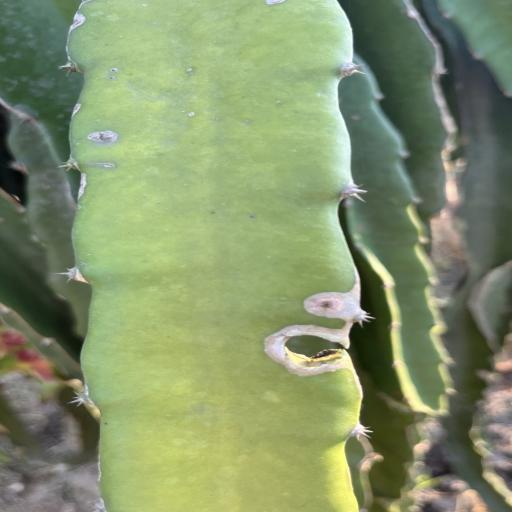stemcanker: (88, 125, 126, 153), (312, 294, 356, 318), (106, 66, 128, 84), (180, 64, 201, 80), (180, 110, 204, 123), (138, 3, 158, 10), (240, 118, 254, 127), (184, 66, 197, 74), (184, 110, 196, 118), (245, 213, 258, 220), (140, 2, 151, 8), (274, 100, 282, 104)
